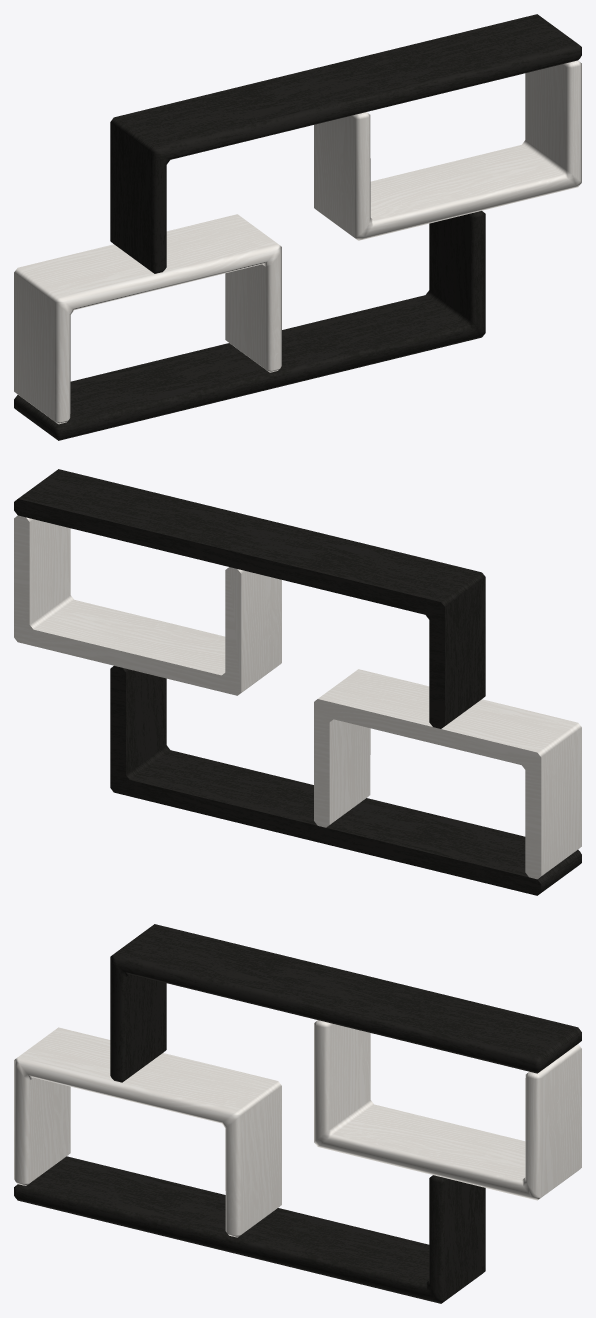
File: shelf_004.fbx
3 views of the same model, one above another, from view 1: azimuth 30°, elevation 25°; view 2: azimuth 150°, elevation 25°; view 3: azimuth 330°, elevation 25° (orthographic).
Visible parts, largest first — view 1: shelf_004; view 2: shelf_004; view 3: shelf_004.
Part boxes in pixels (bbox=[...]): shelf_004: bbox=[14, 14, 581, 440]; shelf_004: bbox=[14, 469, 581, 895]; shelf_004: bbox=[14, 924, 581, 1303].
Bounding box in the file's own units: 179 × 25.19 × 87.46.
